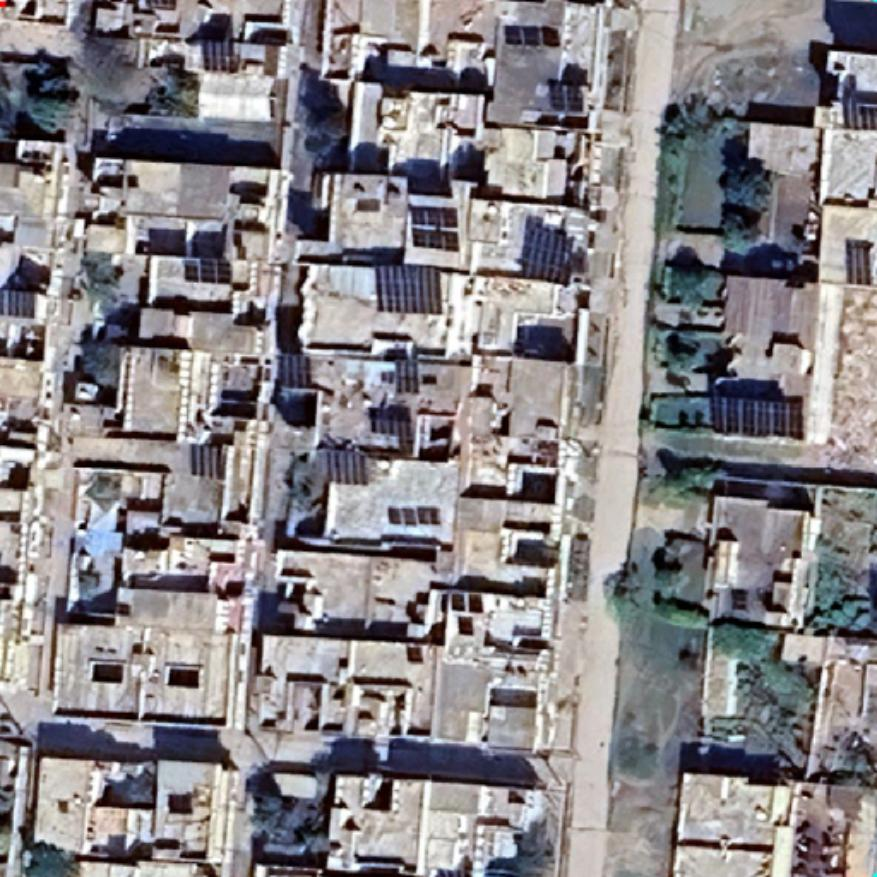Solarpanel: (704, 386, 809, 442), (515, 215, 581, 290), (370, 258, 448, 318), (406, 201, 464, 255), (364, 404, 420, 456), (320, 442, 374, 490), (186, 438, 232, 484), (196, 34, 246, 76), (382, 500, 446, 530), (180, 252, 236, 286), (273, 348, 316, 391), (544, 76, 590, 116), (842, 236, 876, 288), (389, 354, 425, 396), (0, 285, 40, 321)
